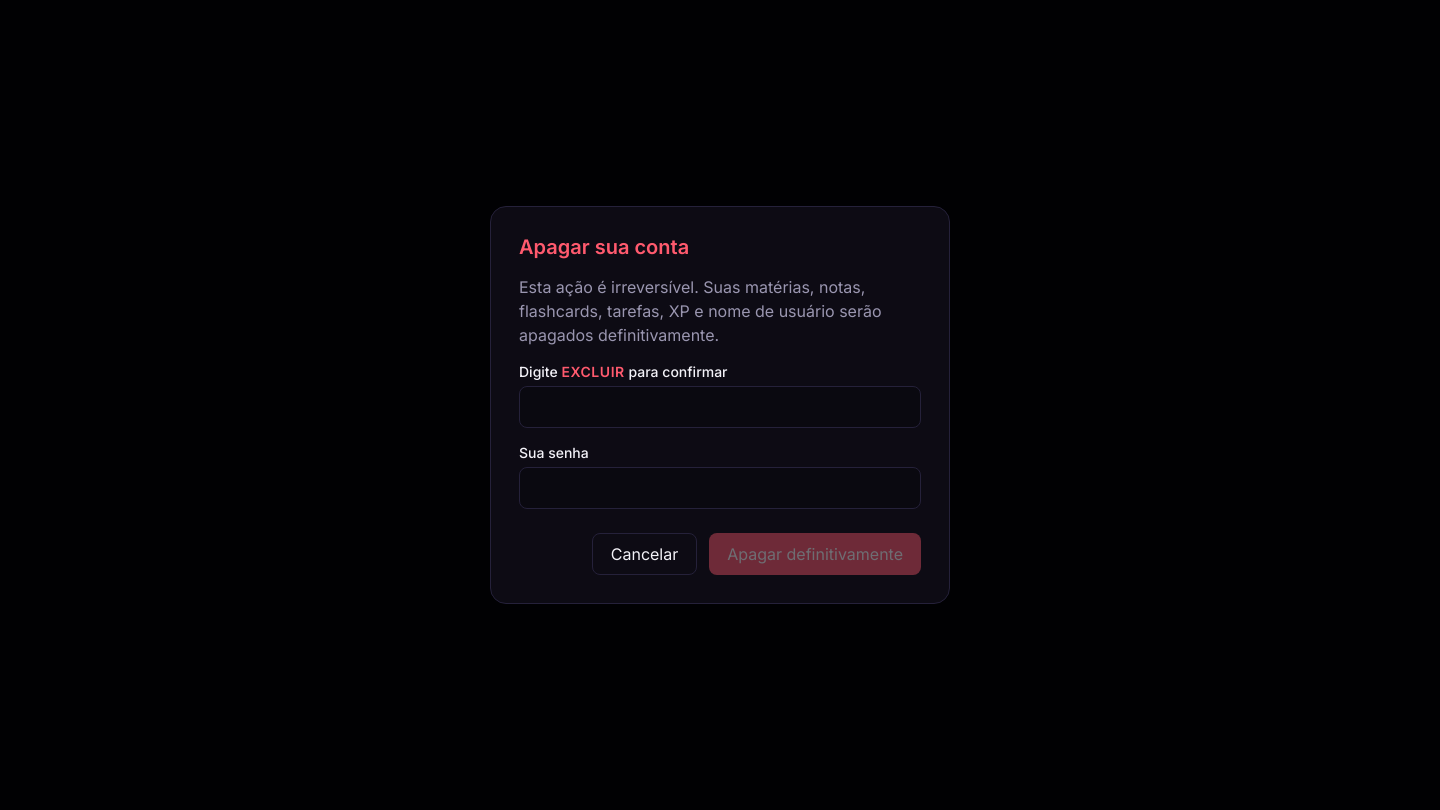
it: DeleteAccountDialog › conta de senha sem senha mostra erro e não apaga
Type "EXCLUIR" into the field labelled "Digite EXCLUIR para confirmar".
click(720, 407); type("EXCLUIR")  # box x1=519 y1=386 x2=921 y2=428
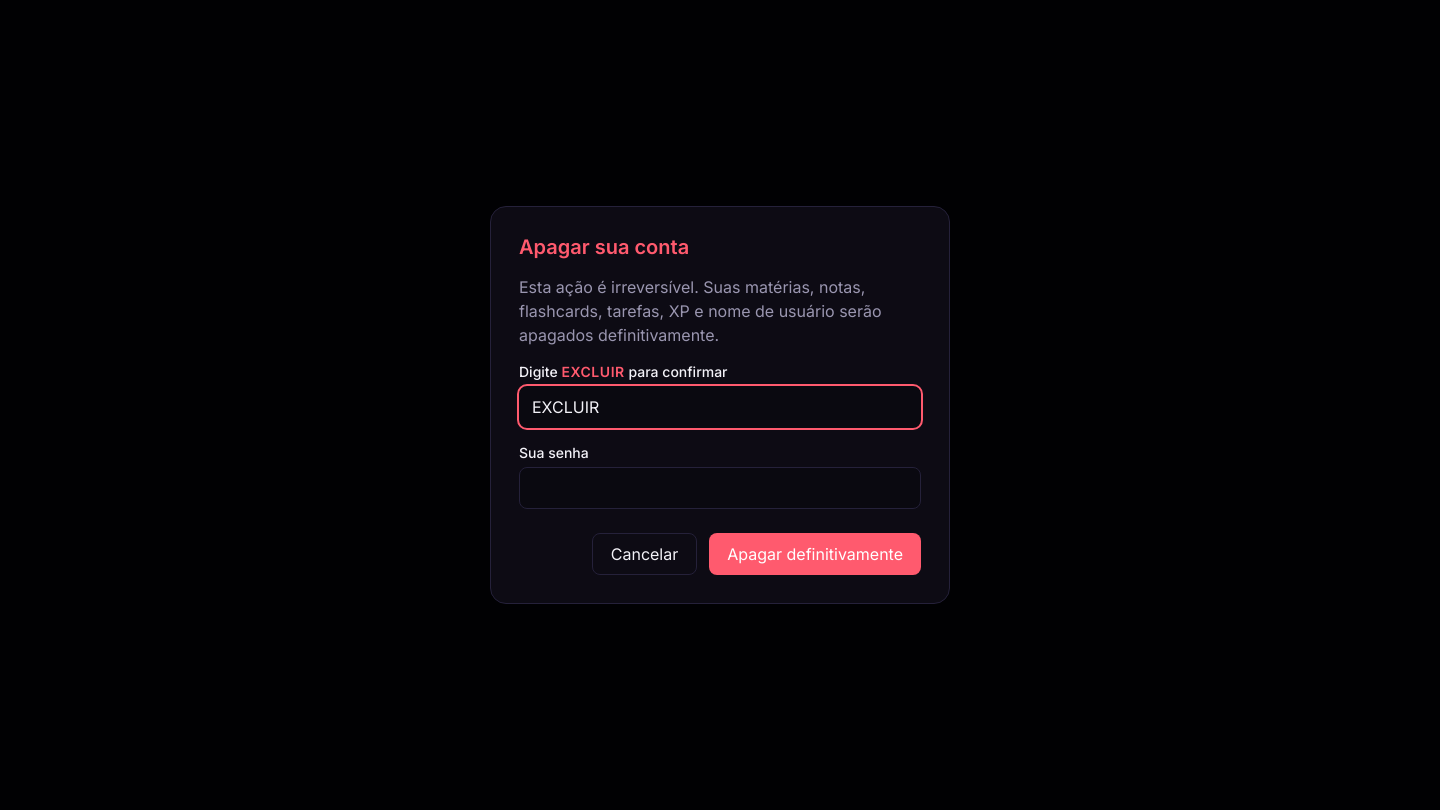
Click the button "Apagar definitivamente".
click(815, 554)  # box x1=709 y1=533 x2=921 y2=575
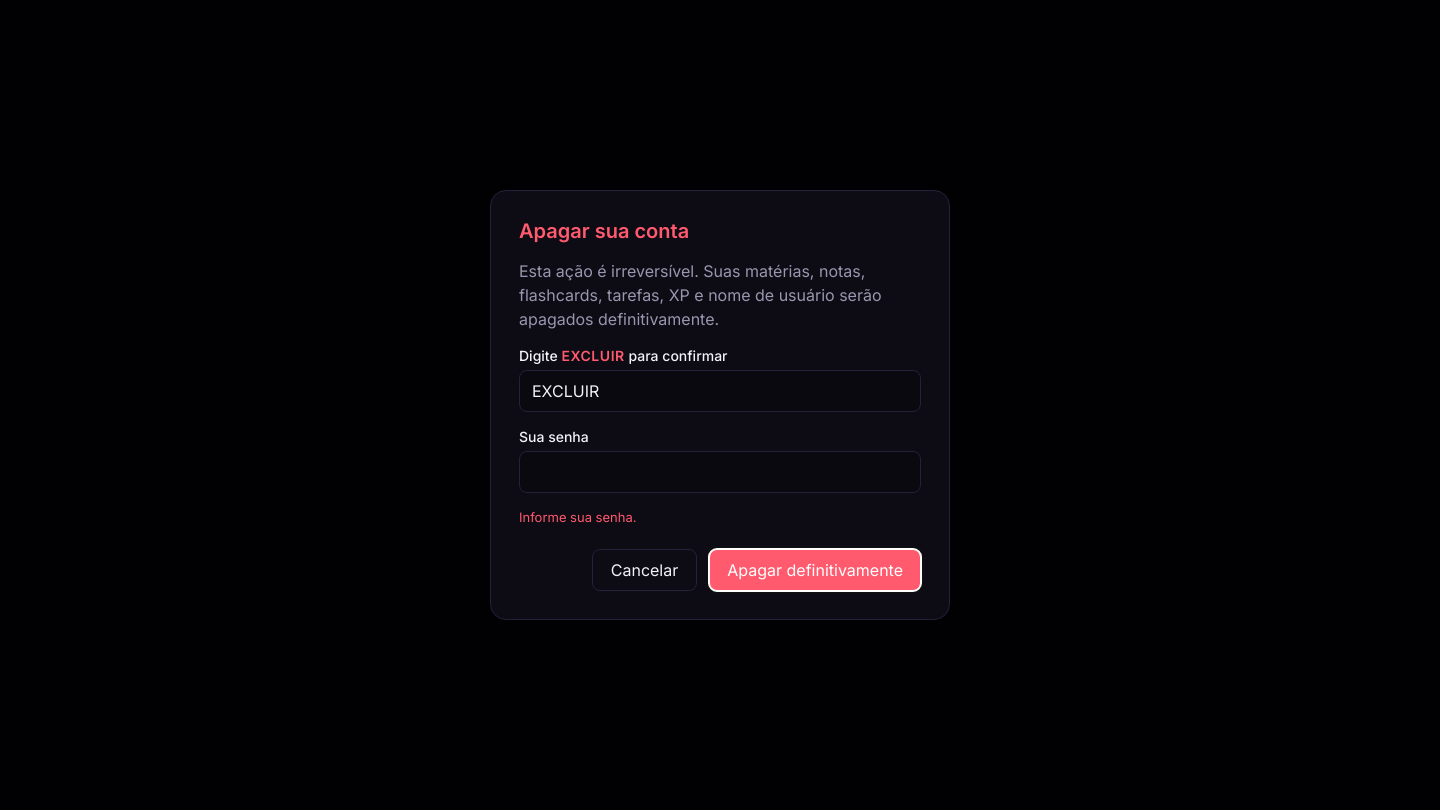
expect the text "Informe sua senha." is shown: met, box x1=519 y1=509 x2=636 y2=525
